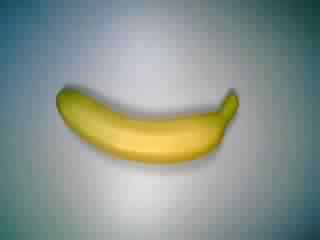banana: (51, 77, 249, 178)
